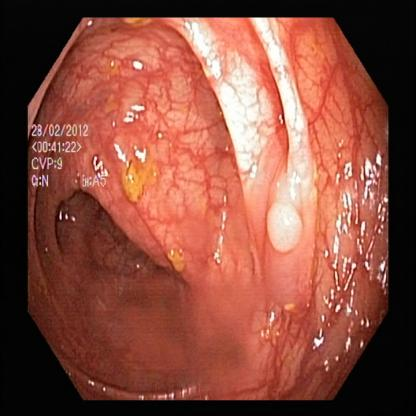Labels: (28, 116, 110, 200)
Polyps: (250, 192, 312, 260), (118, 153, 160, 217)
